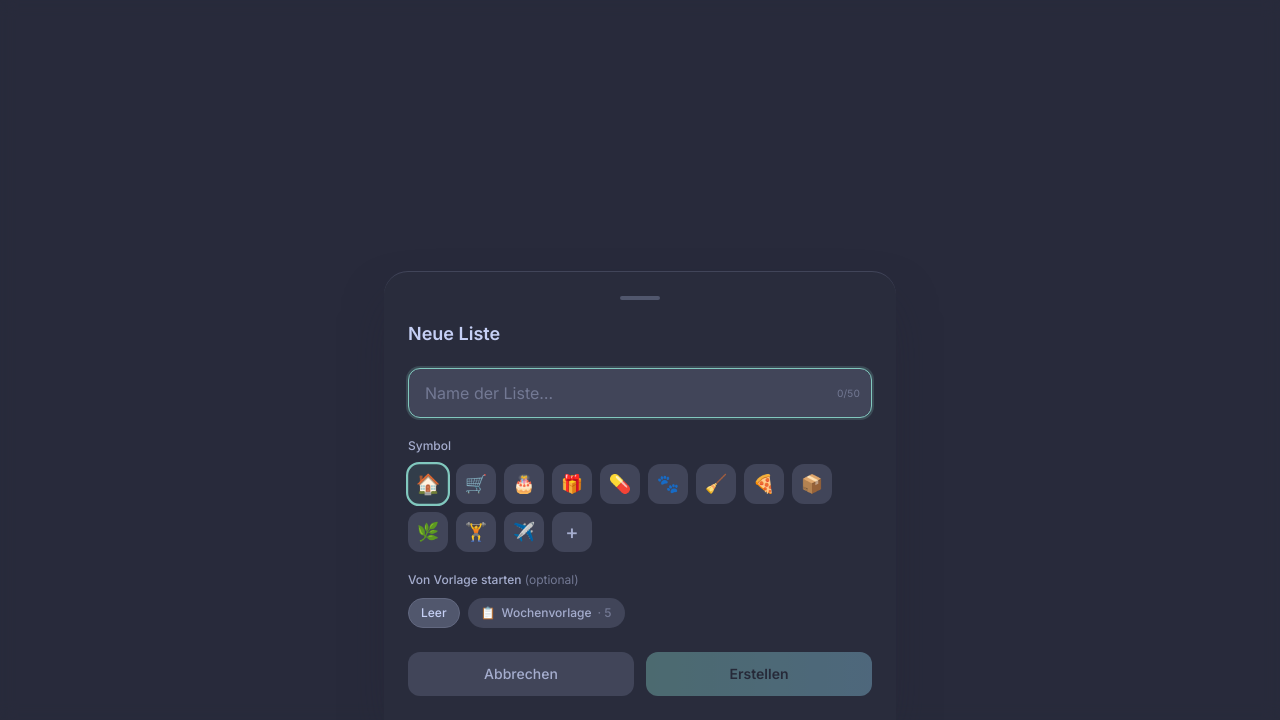
Test: AddListModal › create button shows "Aus Vorlage" text when preset is selected
Note: Click the preset button
Click the button "📋 Wochenvorlage · 5": [546, 613] box top-left (468, 598), bottom-right (624, 628)
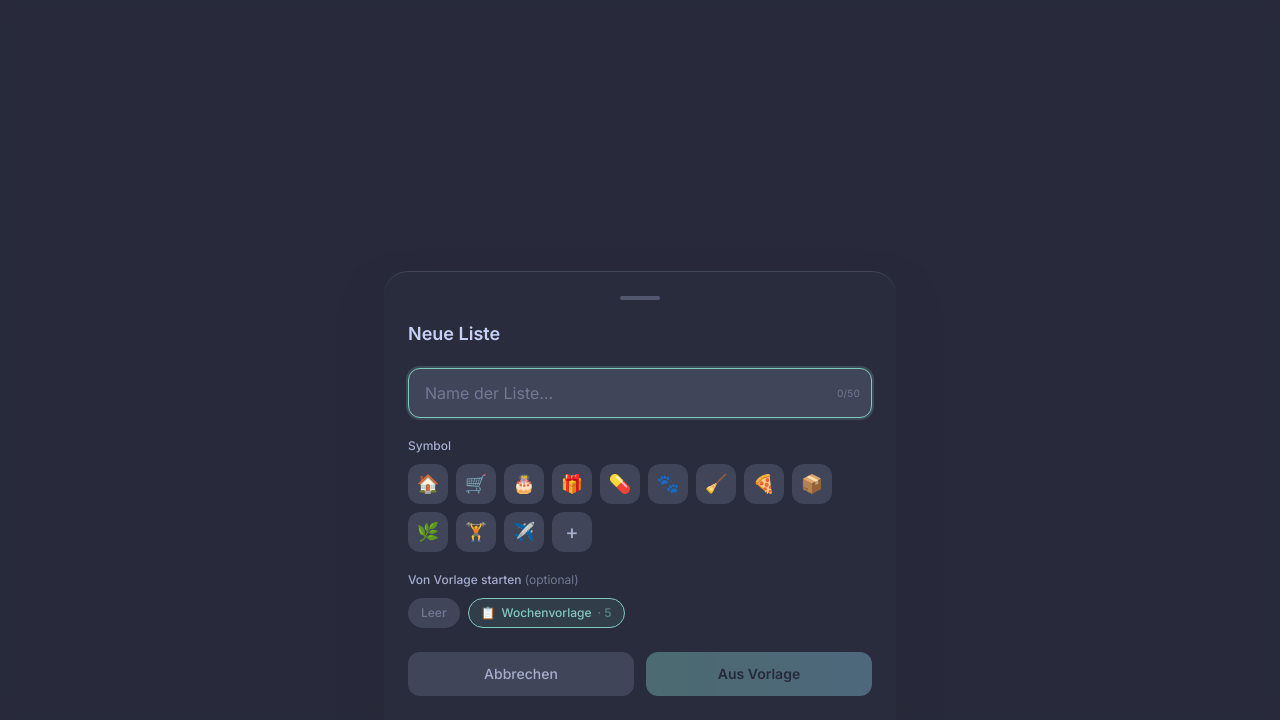
Expected: the button "Aus Vorlage" is shown, top-left (646, 652), bottom-right (872, 696)
